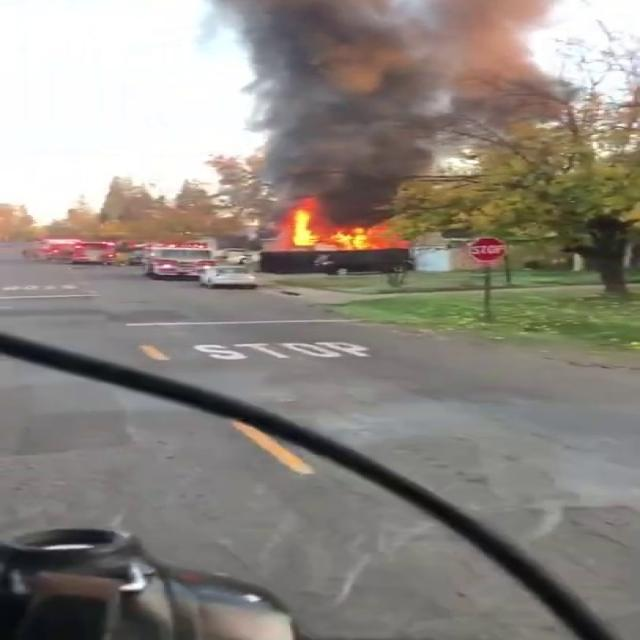Fire: (279, 203, 386, 253)
Smoke: (171, 0, 600, 204)
